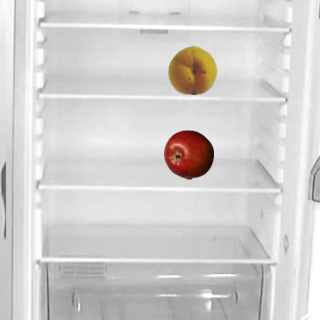Apple Braeburn: (163, 129, 213, 179)
Peach 2: (167, 44, 217, 94)
